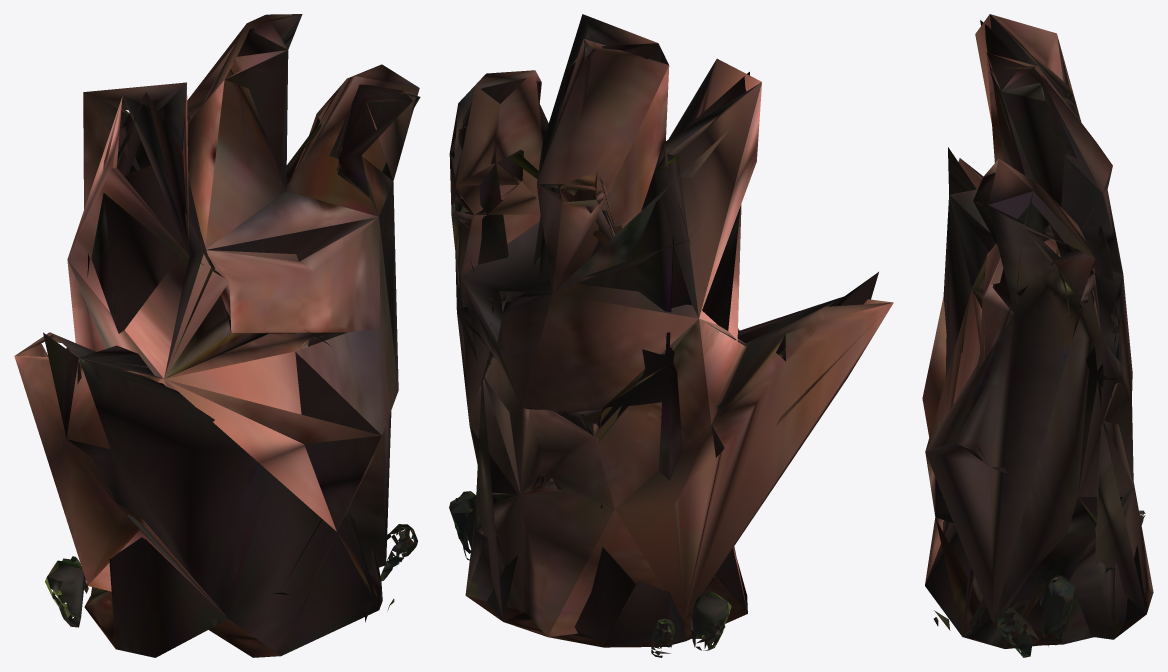
File: lg-giant-hand-statue.glb
3 views of the same model, side by side, from view 1: azimuth 30°, elevation 25°; view 2: azimuth 150°, elevation 25°; view 3: azimuth 270°, elevation 25° (orthographic). The views are drawn at different scales.
Visible parts, largest first — view 1: geometry_0; view 2: geometry_0; view 3: geometry_0.
Part boxes in pixels (left/top/right/bottom): geometry_0: left=14, top=14, right=420, bottom=657; geometry_0: left=449, top=14, right=893, bottom=657; geometry_0: left=922, top=14, right=1153, bottom=657.
Bounding box in the file's own units: 0.7501 × 1 × 0.3798.
Materials: 1 (1 with a texture image).
